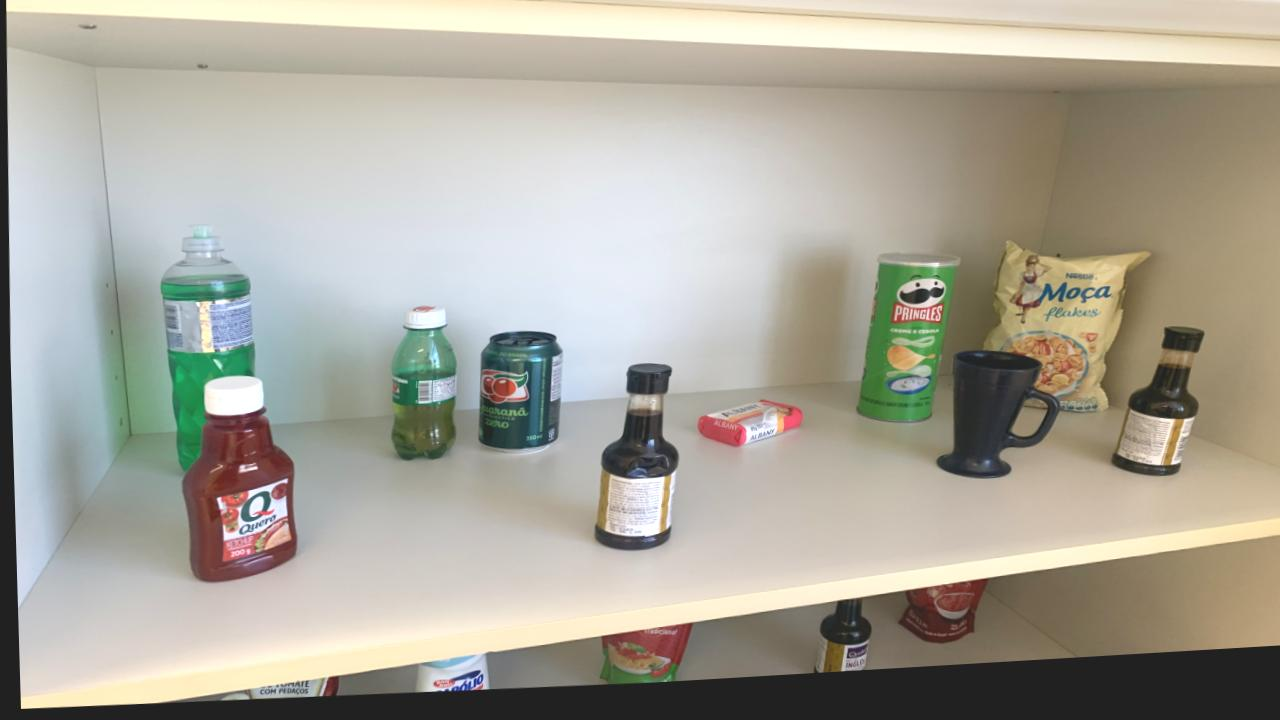Cleaner-Cleanup_Items: (410, 660, 485, 697)
Detergent-Cleanup_Items: (158, 227, 253, 471)
English_Sauce-Pantry_Items: (592, 371, 674, 558), (1109, 341, 1201, 490), (810, 609, 868, 683)
Flakes-Snacks: (981, 254, 1148, 426)
Guarana-Drinks: (388, 310, 454, 465)
Guarana_Can-Drinks: (476, 337, 559, 458)
Ketchup-Pantry_Items: (179, 379, 292, 585)
Pringles-Snacks: (854, 265, 956, 434)
Soap-Cleanup_Items: (694, 411, 799, 455)
Tomato_Sauce-Pantry_Items: (595, 631, 688, 692), (895, 591, 983, 654), (243, 681, 335, 702)
